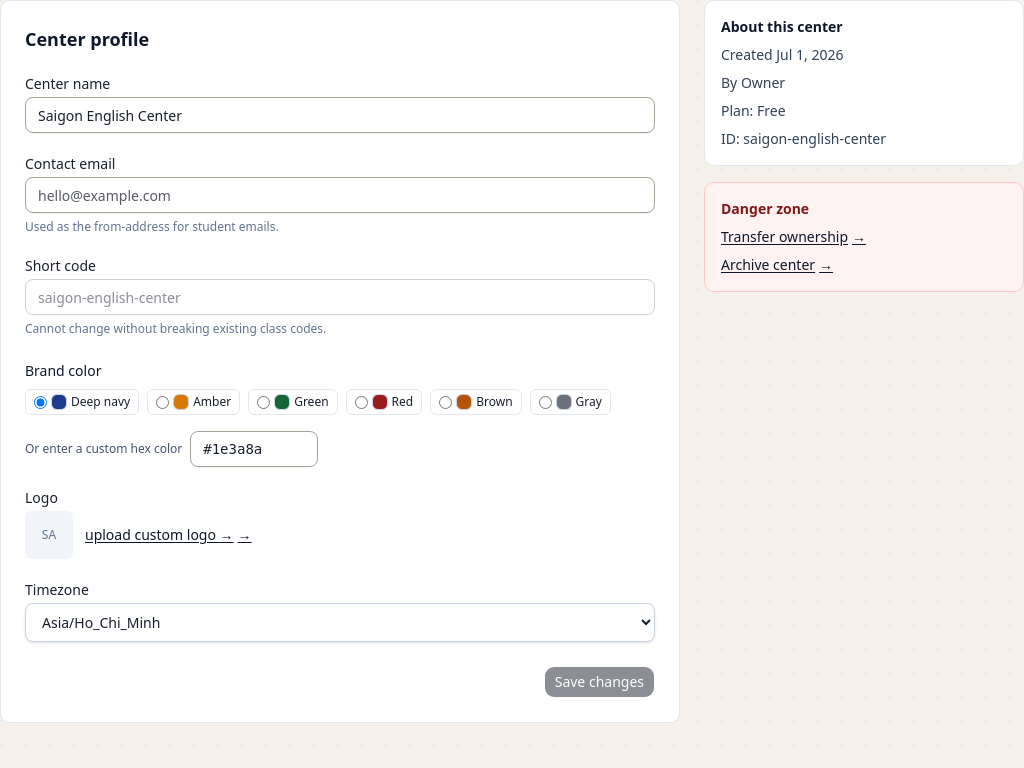
Test: ProfileTab — AC16 D3 named coverage (2026-07-15 review) › empty contactEmail is accepted (sends null); invalid non-empty shows inline error
Type "not-an-email" into the field with test id "settings-profile-contactEmail-input".
click(340, 195); type("not-an-email")  # box [25,177,655,213]
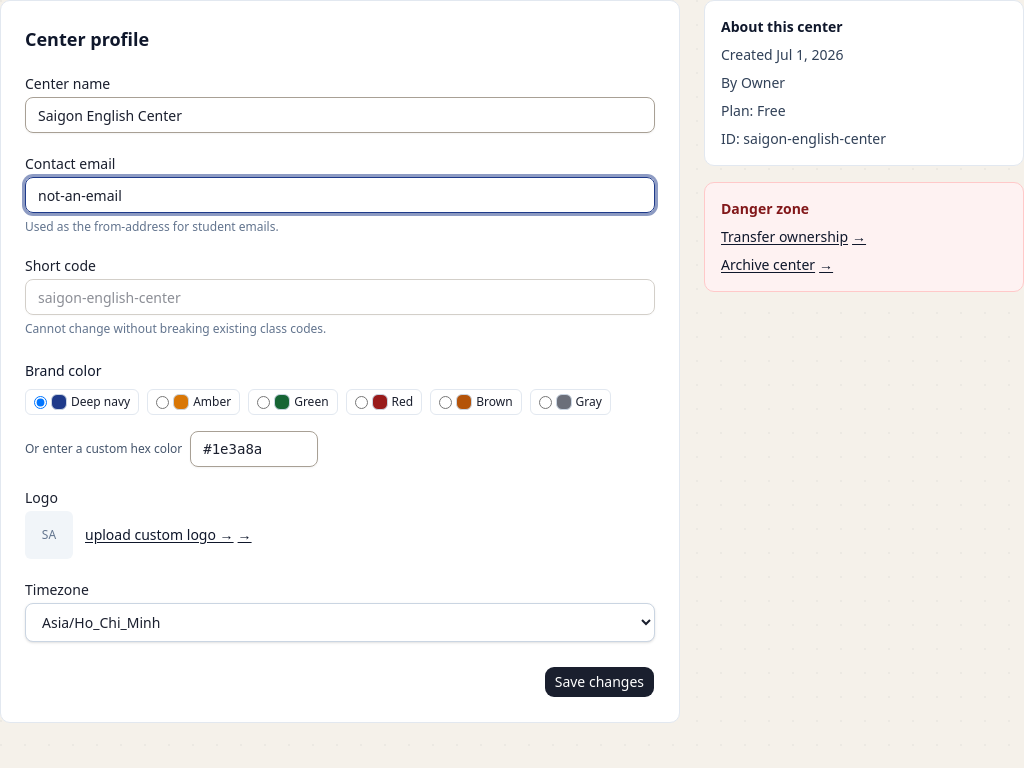
Note: Trigger validation without clicking Save (RHF onBlur mode fires on tab-out).
Press Tab
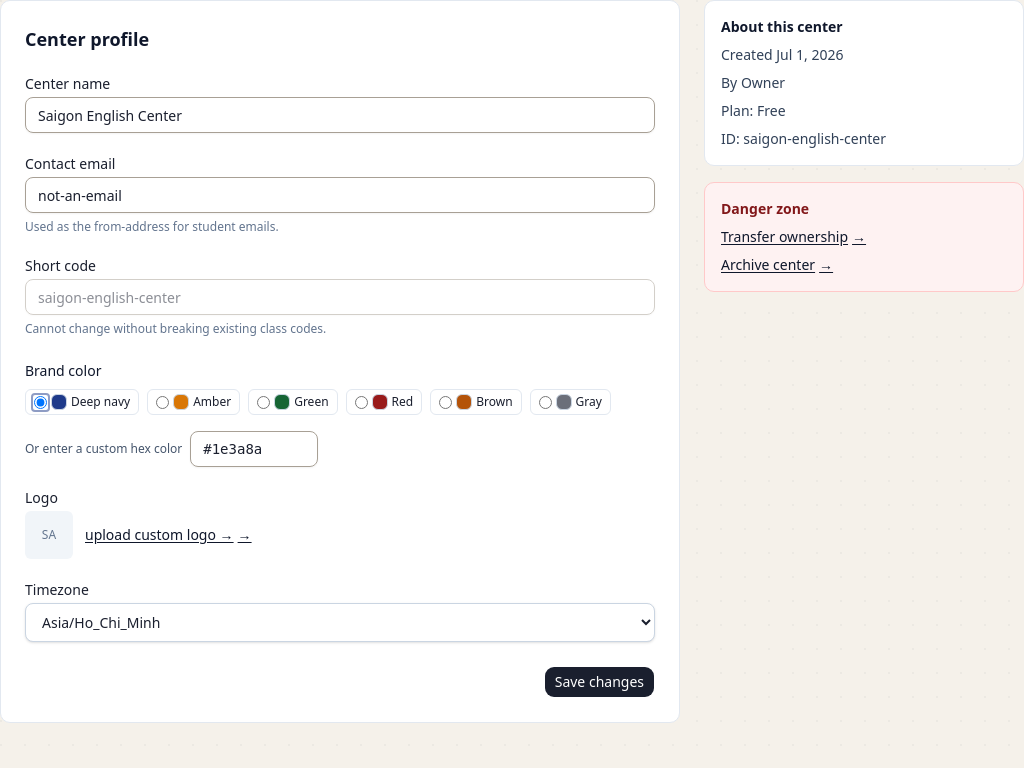
Click the button with test id "settings-profile-save-button".
click(599, 682)  # box [544,666,655,698]
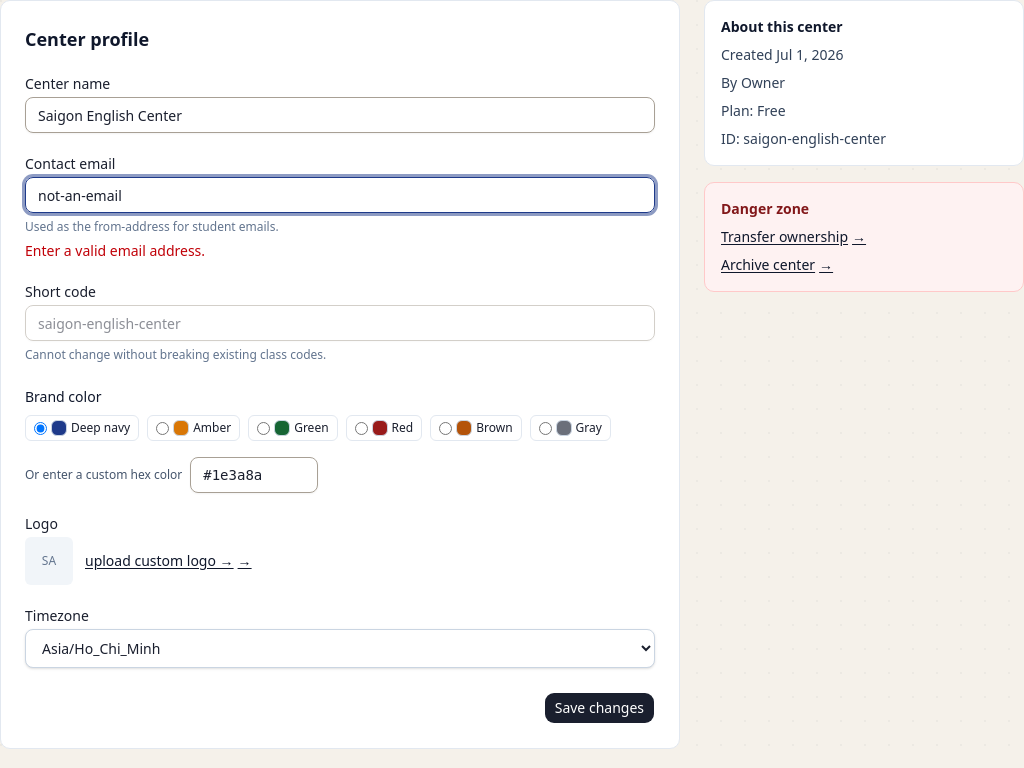
Expected: the text "Enter a valid email address." is shown, [25,241,205,260]
